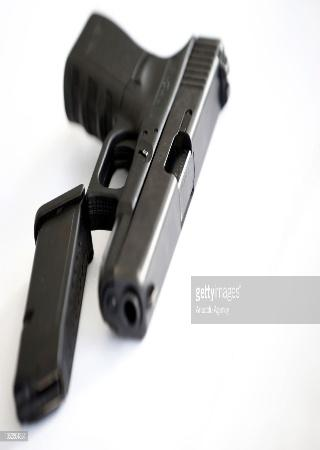weapon: (64, 12, 230, 340)
